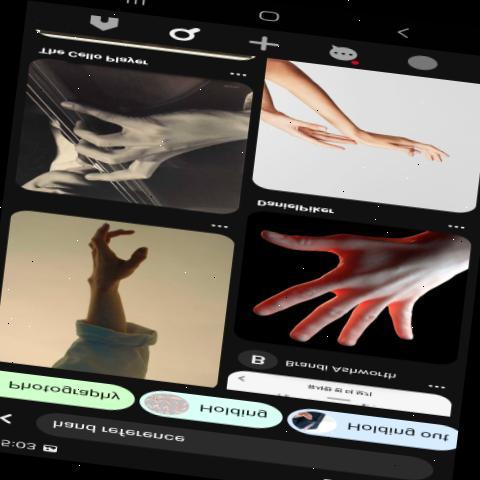Hands: (248, 225, 456, 342), (44, 96, 251, 195), (40, 224, 186, 325), (264, 108, 356, 162), (342, 128, 462, 167)
